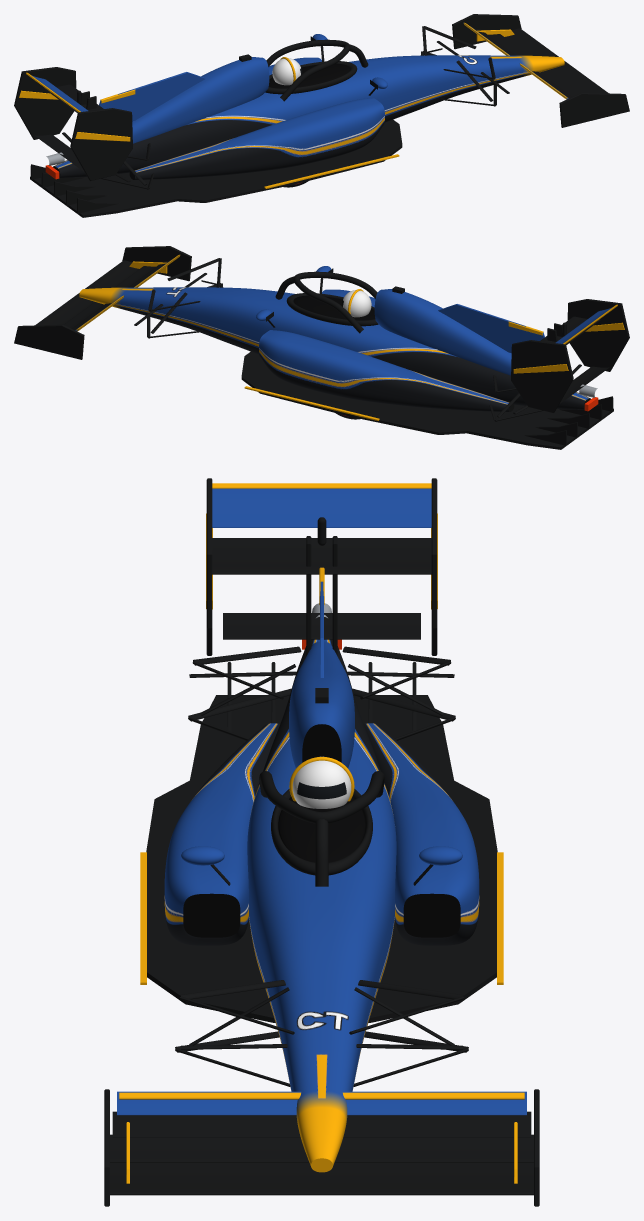
3 renders of one model, top to bottom at view 1: azimuth 30°, elevation 25°; view 2: azimuth 150°, elevation 25°; view 3: azimuth 270°, elevation 25°, orthographic. The views are drawn at different scales.
Visible parts, largest first — view 1: Chassis, Sidepod_L, Floor, RearWing_Endplate (×2), EngineCover, FrontWing_Endplate (×2), bodyPainted, SharkFin, FrontWing_E1, Halo, DiffuserStrake (×3), CockpitOpening (+7 smaller); view 2: Chassis, Sidepod_R, Floor, RearWing_Endplate (×2), EngineCover, FrontWing_Endplate (×2), bodyPainted, SharkFin, FrontWing_E1, Halo, DiffuserStrake (×3), CockpitOpening (+7 smaller); view 3: Chassis, Floor, FrontWing_E1, Sidepod_L, Sidepod_R, FrontWing_E2, RearWing_Flap, FrontWing_E3, RearWing_Main, bodyPainted, FrontWing_E4, EngineCover (+6 smaller).
Boxes of the visible parts, bbox=[...] form: Chassis: bbox=[53, 55, 564, 177]; Sidepod_L: bbox=[129, 98, 384, 179]; Floor: bbox=[30, 119, 402, 217]; RearWing_Endplate (×2): bbox=[14, 67, 132, 180]; EngineCover: bbox=[132, 57, 269, 143]; FrontWing_Endplate (×2): bbox=[452, 14, 629, 127]; bodyPainted: bbox=[19, 22, 567, 188]; SharkFin: bbox=[99, 72, 205, 121]; FrontWing_E1: bbox=[505, 28, 608, 93]; Halo: bbox=[266, 39, 350, 101]; DiffuserStrake (×3): bbox=[54, 181, 119, 213]; CockpitOpening: bbox=[268, 63, 350, 88]; Chassis: bbox=[79, 287, 590, 409]; Sidepod_R: bbox=[259, 330, 514, 411]; Floor: bbox=[241, 351, 613, 449]; RearWing_Endplate (×2): bbox=[511, 299, 629, 412]; EngineCover: bbox=[374, 289, 511, 375]; FrontWing_Endplate (×2): bbox=[14, 246, 191, 359]; bodyPainted: bbox=[76, 254, 624, 420]; SharkFin: bbox=[438, 304, 544, 353]; FrontWing_E1: bbox=[35, 260, 138, 325]; Halo: bbox=[293, 271, 377, 333]; DiffuserStrake (×3): bbox=[524, 413, 589, 445]; CockpitOpening: bbox=[293, 295, 375, 320]; Chassis: bbox=[247, 639, 396, 1172]; Floor: bbox=[146, 695, 497, 1022]; FrontWing_E1: bbox=[110, 1162, 533, 1195]; Sidepod_L: bbox=[164, 723, 279, 945]; Sidepod_R: bbox=[364, 723, 479, 945]; FrontWing_E2: bbox=[110, 1134, 533, 1162]; RearWing_Flap: bbox=[212, 488, 431, 527]; FrontWing_E3: bbox=[112, 1111, 531, 1137]; RearWing_Main: bbox=[212, 538, 431, 574]; bodyPainted: bbox=[119, 483, 524, 1183]; FrontWing_E4: bbox=[117, 1091, 526, 1115]; EngineCover: bbox=[289, 641, 354, 767].
Size of the model in its own units: 3.91 by 1.03 by 1.38.
14 materials, 2 textured.
